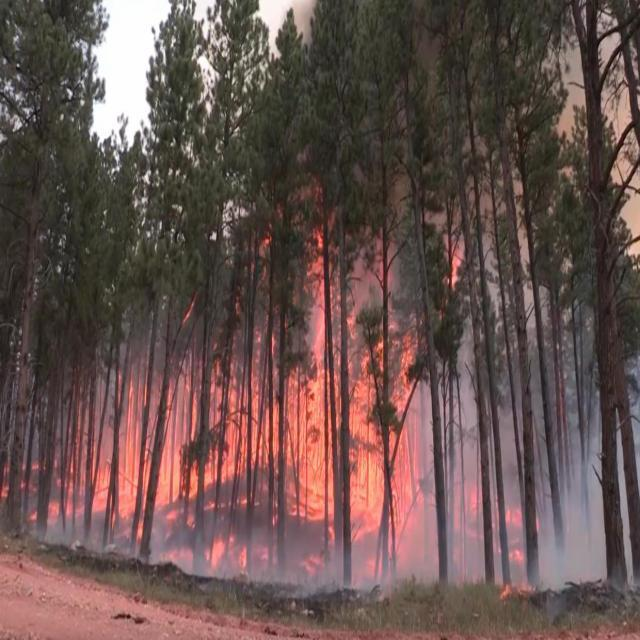Fire: (22, 318, 410, 539), (494, 492, 540, 602)
